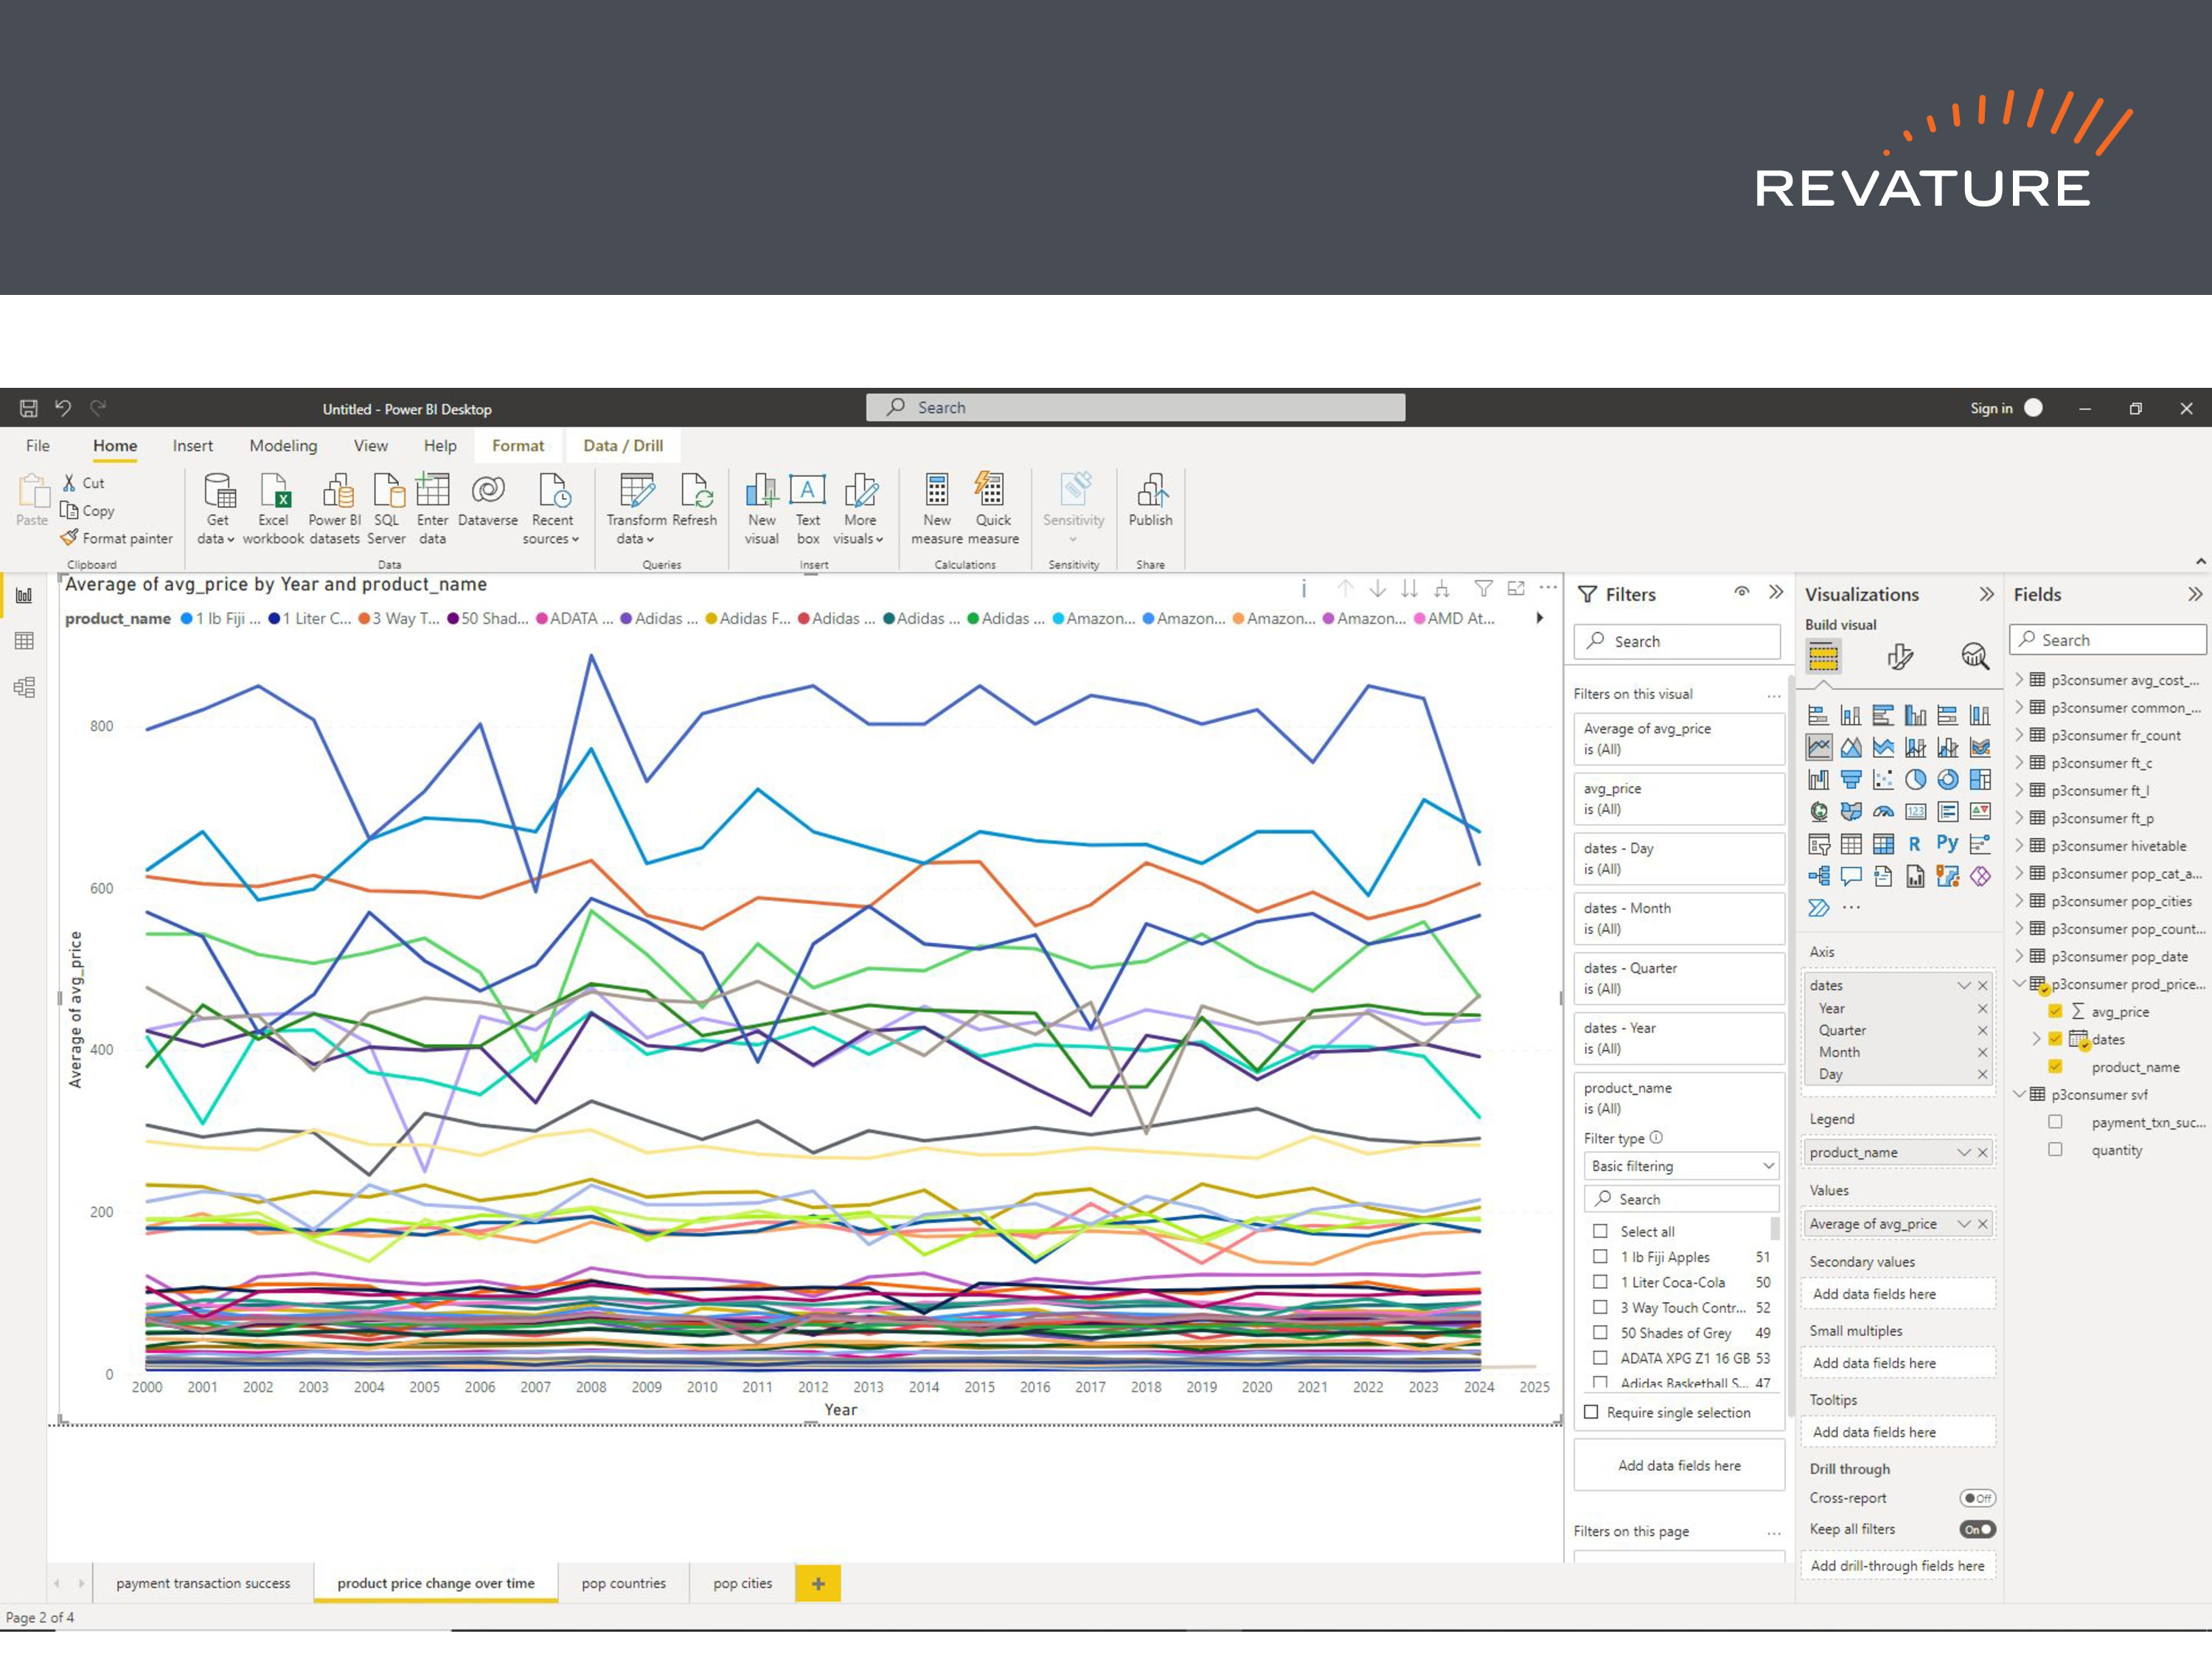

The dashboard page shown, as its layout file describes it:
{"tool":"powerbi","page":{"name":"prod_price_change","canvas":[1280,720],"ordinal":10},"visuals":[{"type":"barChart","title":"Change in Price by Date per Product","fields":{"Y":["Sum(proj3 prod_price_change.avg_price)"],"Rows":["proj3 prod_price_change.product_name"],"Category":["proj3 prod_price_change.dates.Variation.Date Hierarchy.Year","proj3 prod_price_change.dates.Variation.Date Hierarchy.Quarter","proj3 prod_price_change.dates.Variation.Date Hierarchy.Month","proj3 prod_price_change.dates.Variation.Date Hierarchy.Day"]},"box":[10.5,9.4,1269.2,710.6],"z":0}]}

Visuals, with their boxes on the page's 1280x720 design canvas (x1, y1, x2, y2). These are canvas units, not pixel positions in the 2212x1659 screenshot, which may show the page scaled, cropped or inside an application window:
"Change in Price by Date per Product" barChart: detection(10, 9, 1280, 720)
